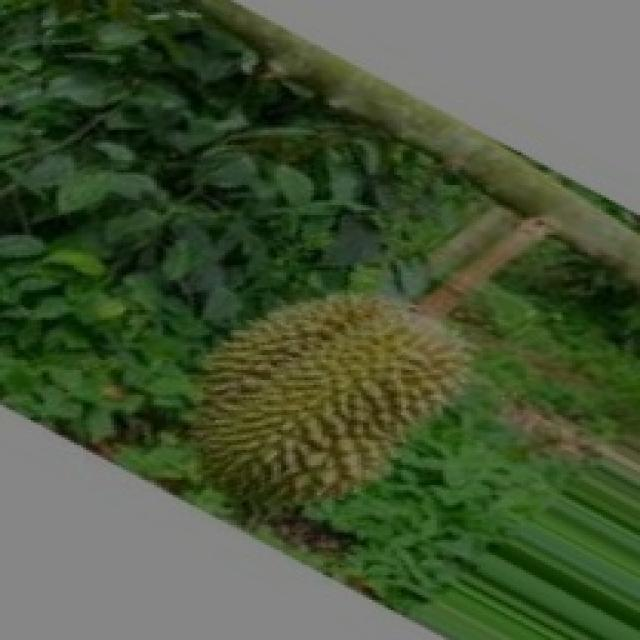fruit: (138, 248, 544, 598)
